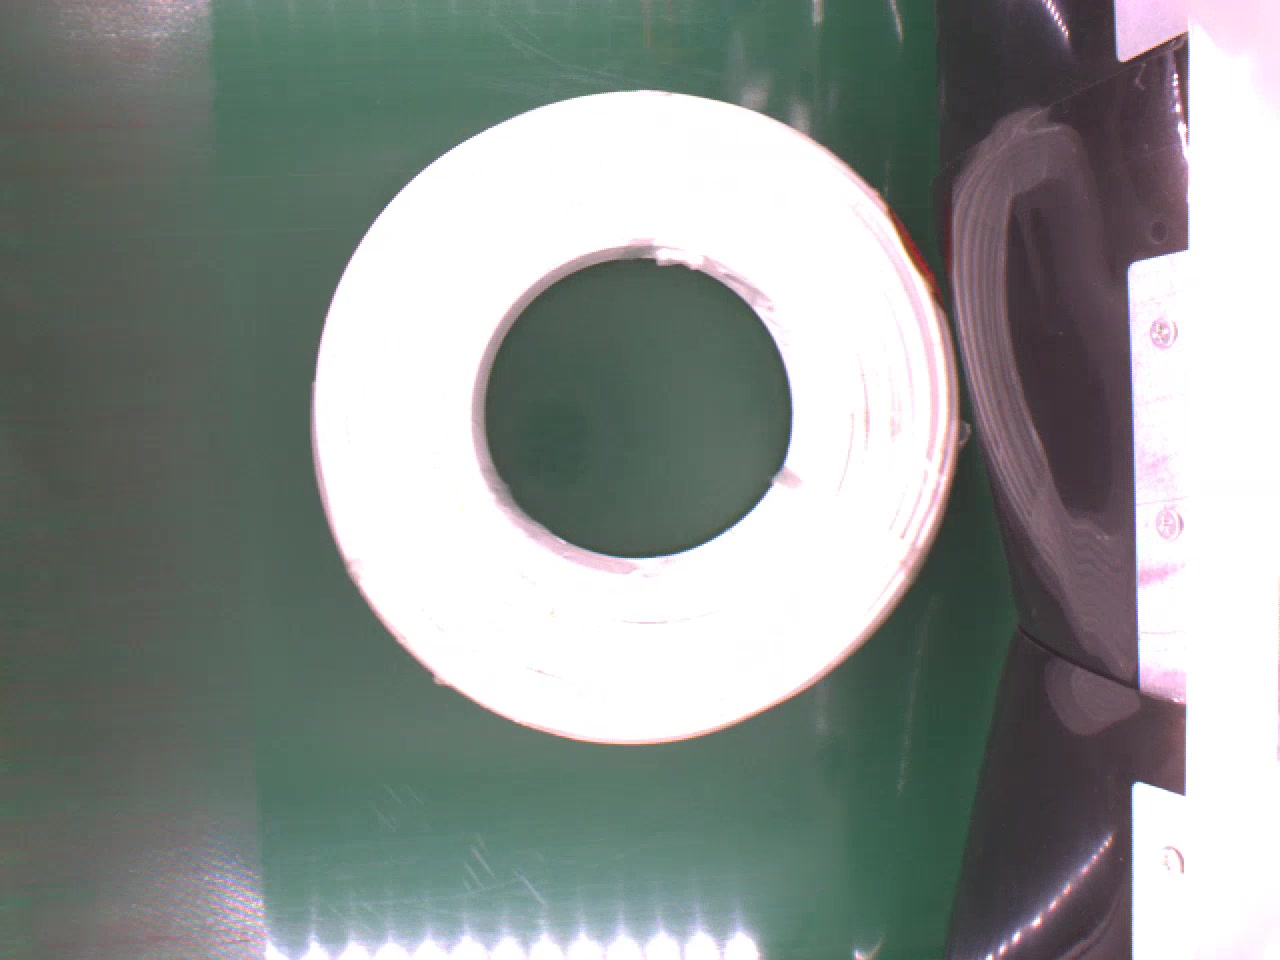white: (308, 88, 963, 754)
